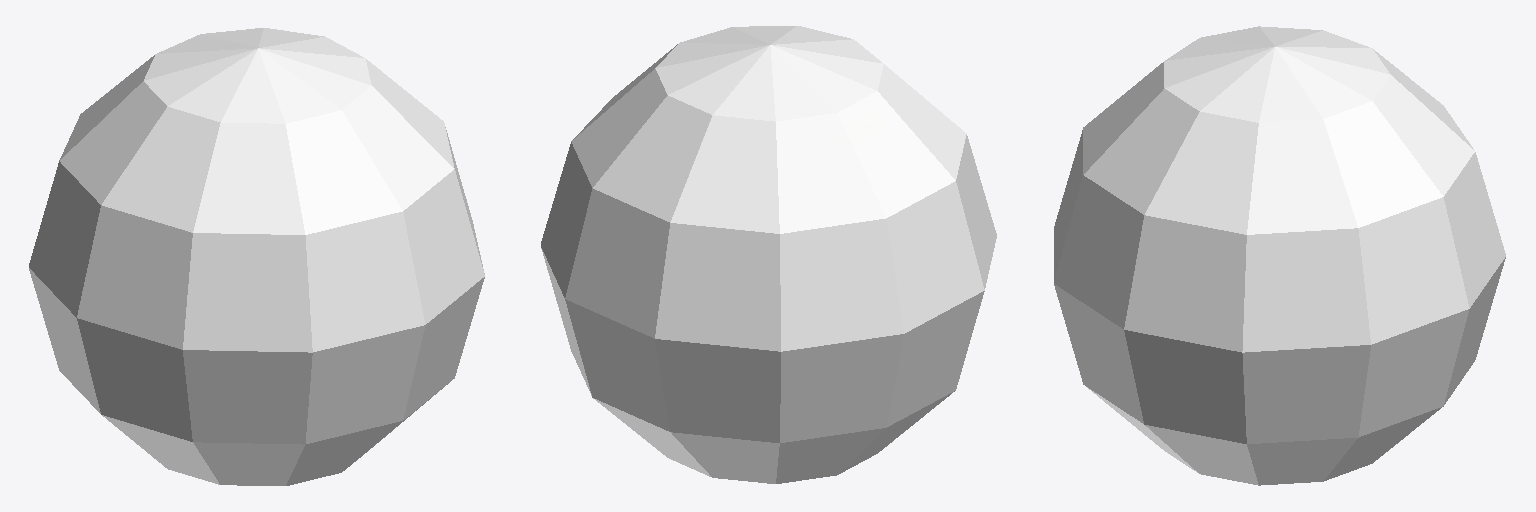
3 views of the same model, side by side, from view 1: azimuth 30°, elevation 25°; view 2: azimuth 150°, elevation 25°; view 3: azimuth 270°, elevation 25° (orthographic).
Visible parts, largest first — view 1: Sphere; view 2: Sphere; view 3: Sphere.
Boxes of the visible parts, x1,y1,x2,y2 form: Sphere: [29, 28, 484, 485]; Sphere: [541, 26, 996, 483]; Sphere: [1054, 26, 1505, 485].
Size of the model in its own units: 1.98 by 2 by 1.96.
1 materials, 1 textured.